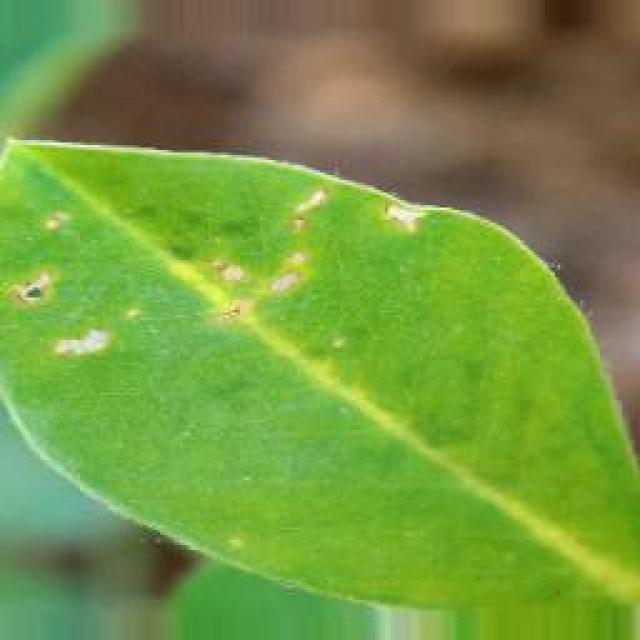Yellow_and_black_sigatoka: (0, 136, 640, 614)
